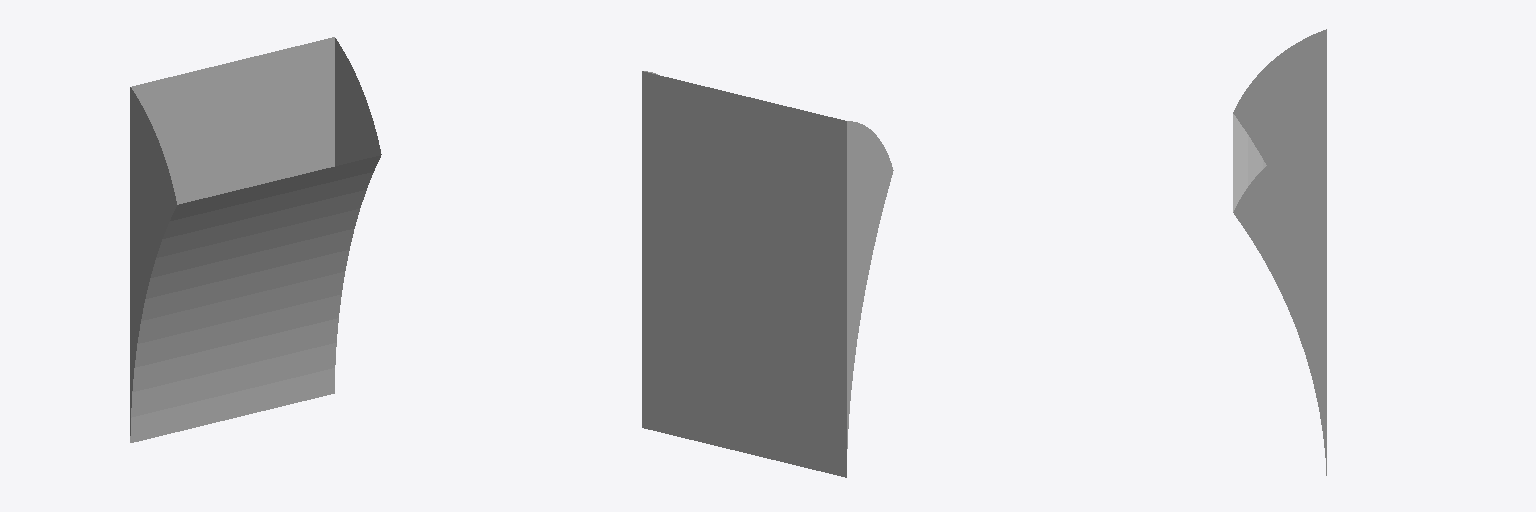
The model's file is original-8.obj.
3 renders of one model, left to right at view 1: azimuth 30°, elevation 25°; view 2: azimuth 150°, elevation 25°; view 3: azimuth 270°, elevation 25°, orthographic.
Visible parts, largest first — view 1: mesh16/mesh16-geometry/material_1#mesh16-geometry; view 2: mesh16/mesh16-geometry/material_1#mesh16-geometry; view 3: mesh16/mesh16-geometry/material_1#mesh16-geometry.
Boxes of the visible parts, x1,y1,x2,y2 form: mesh16/mesh16-geometry/material_1#mesh16-geometry: [130, 37, 381, 442]; mesh16/mesh16-geometry/material_1#mesh16-geometry: [642, 71, 893, 477]; mesh16/mesh16-geometry/material_1#mesh16-geometry: [1233, 29, 1326, 475].
Size of the model in its own units: 0.6024 by 1.01 by 0.2397.